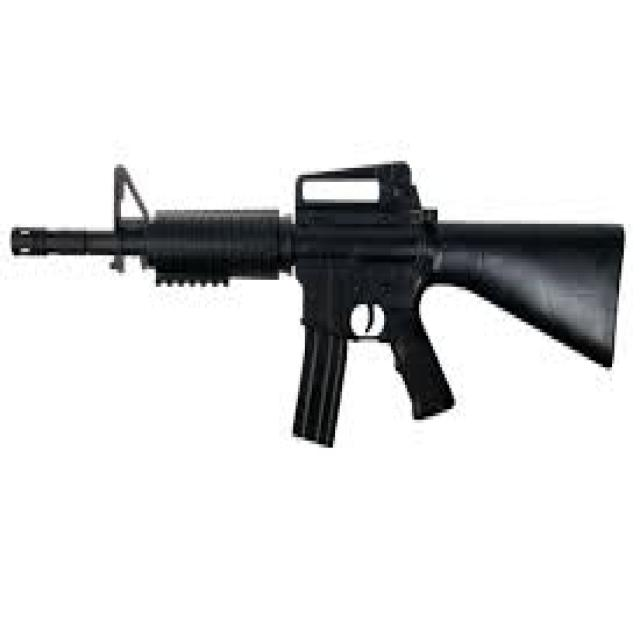rifle: (8, 148, 633, 465)
